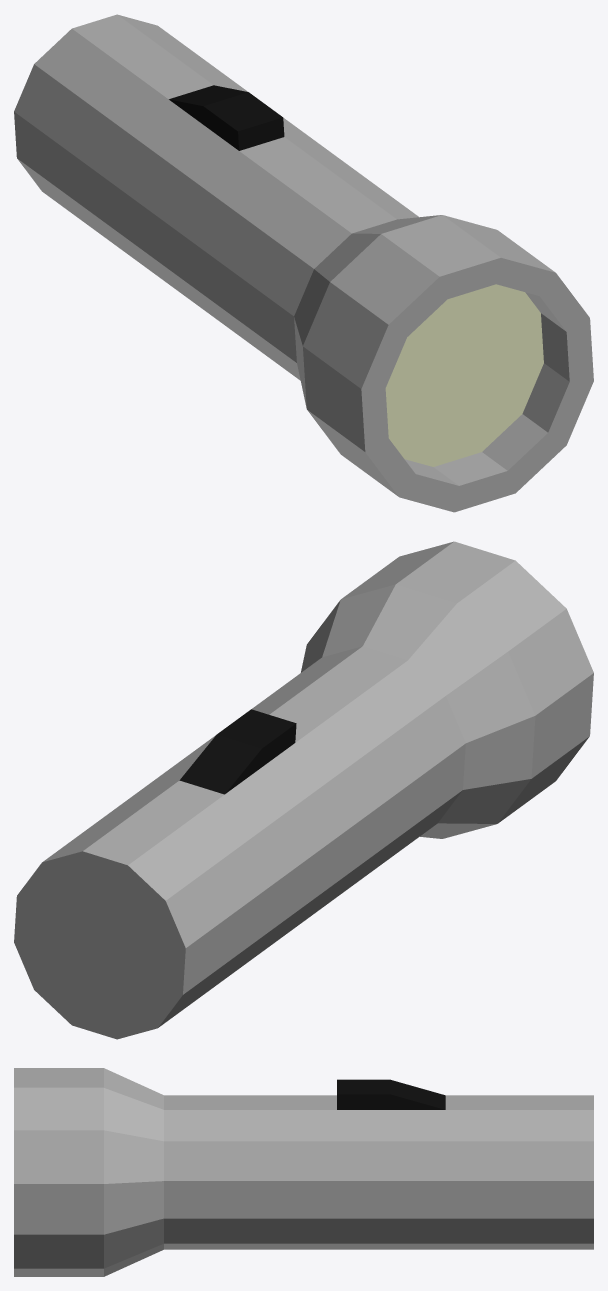
The model's file is flashlight.fbx.
The picture shows the model from 3 angles, top to bottom: view 1: azimuth 30°, elevation 25°; view 2: azimuth 150°, elevation 25°; view 3: azimuth 270°, elevation 25°; orthographic projection. The views are drawn at different scales.
Parts seen in each view (by area): view 1: Cylinder; view 2: Cylinder; view 3: Cylinder.
Part boxes in pixels (left/top/right/bottom): Cylinder: left=14, top=14, right=593, bottom=512; Cylinder: left=14, top=541, right=593, bottom=1039; Cylinder: left=14, top=1068, right=593, bottom=1276.
Size of the model in its own units: 3.37 by 3.37 by 9.48.
